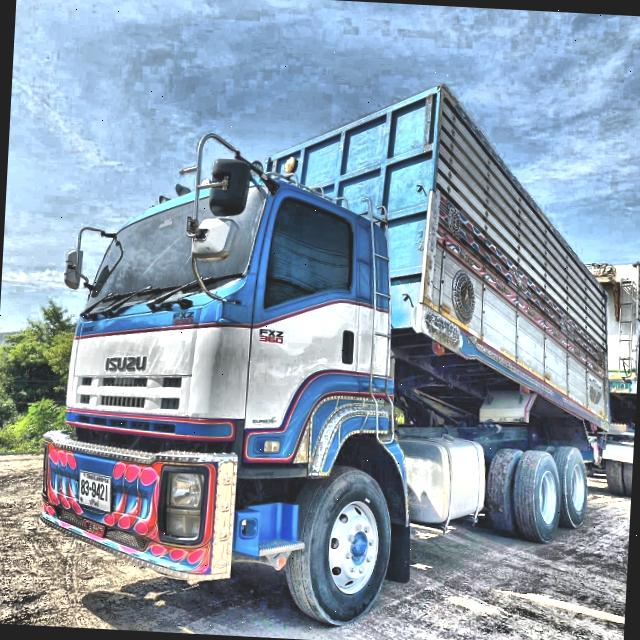trailer: (20, 55, 640, 640)
